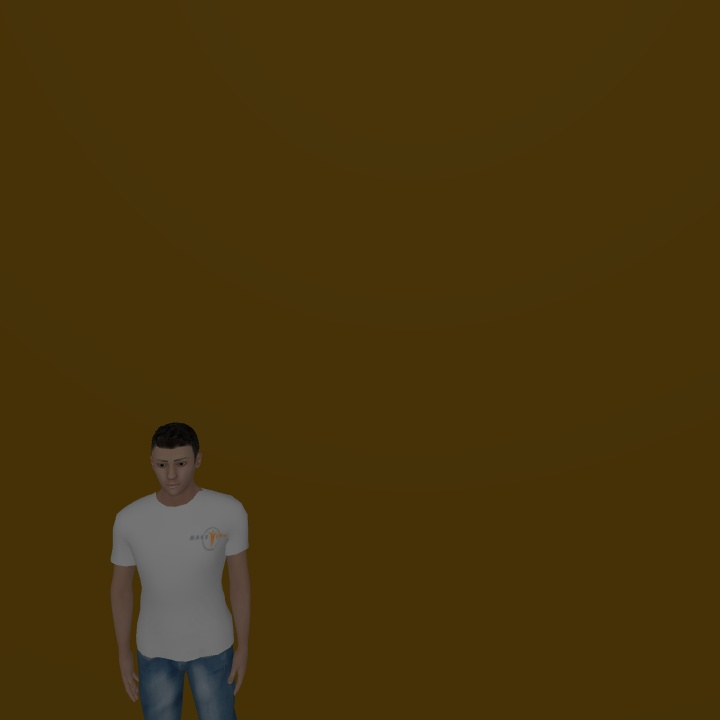victim: (110, 422, 249, 716)
